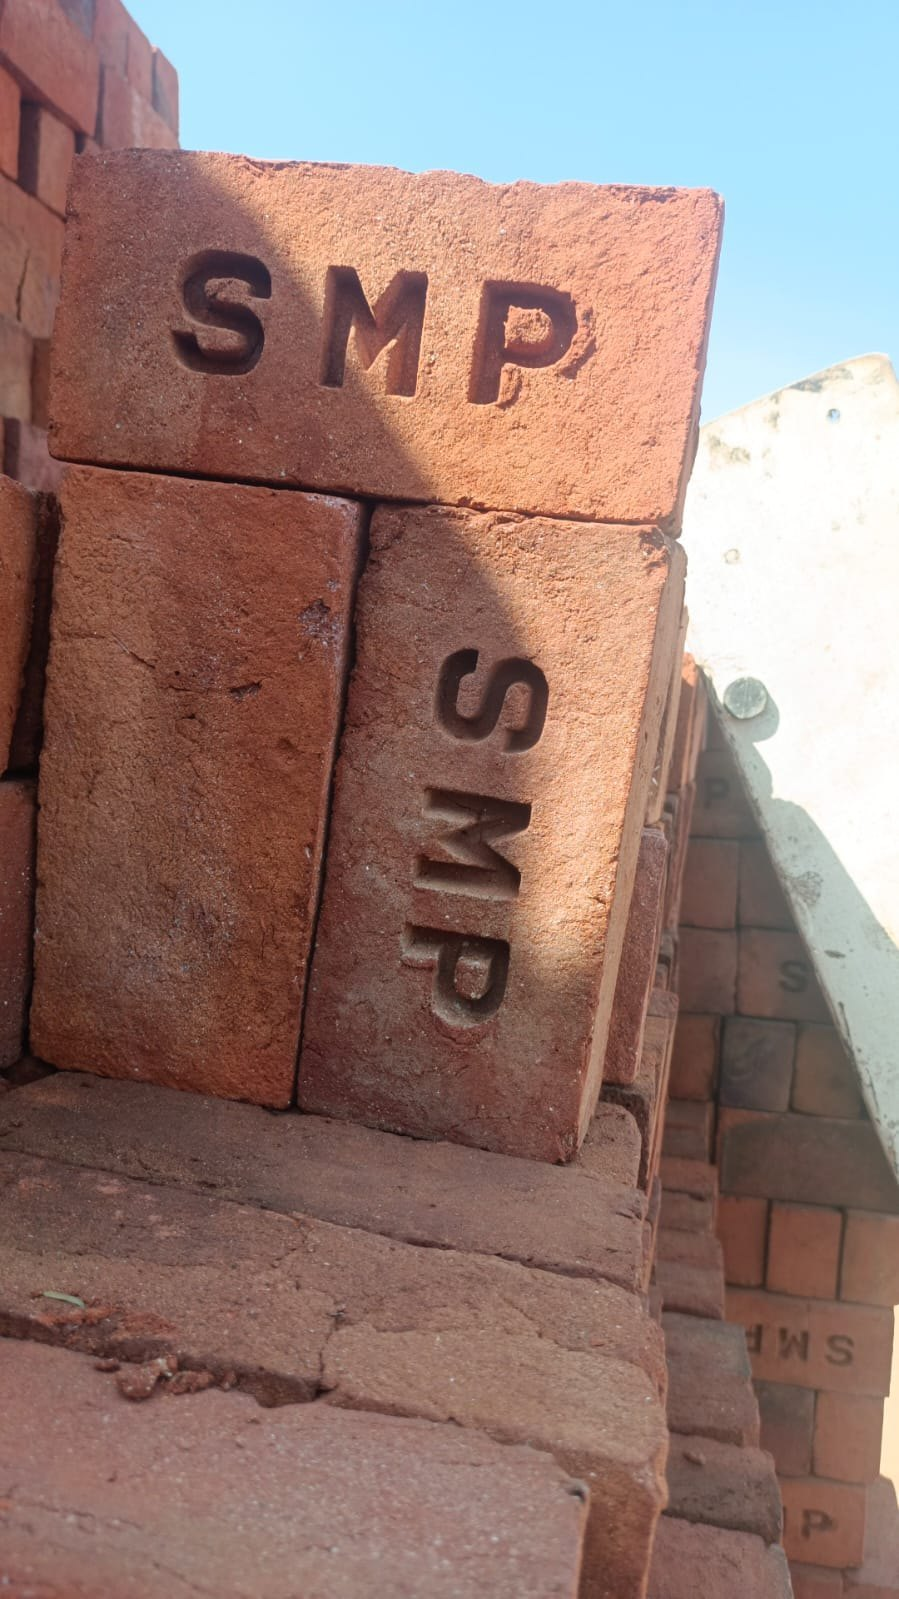brick: (45, 139, 724, 510), (305, 500, 675, 1160), (30, 465, 355, 1105)
